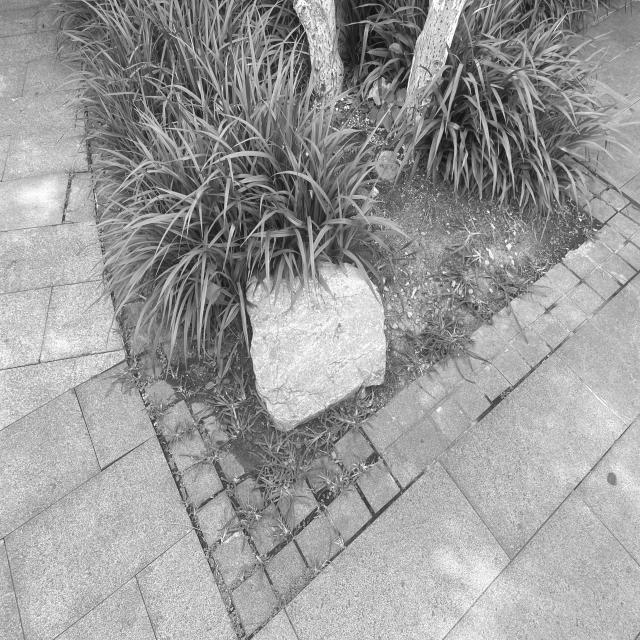Stone: (248, 262, 386, 430)
